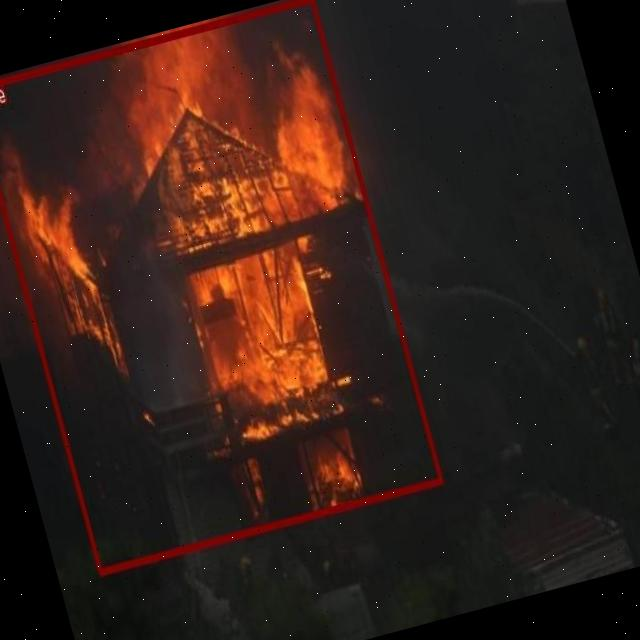fire: (0, 0, 443, 575)
